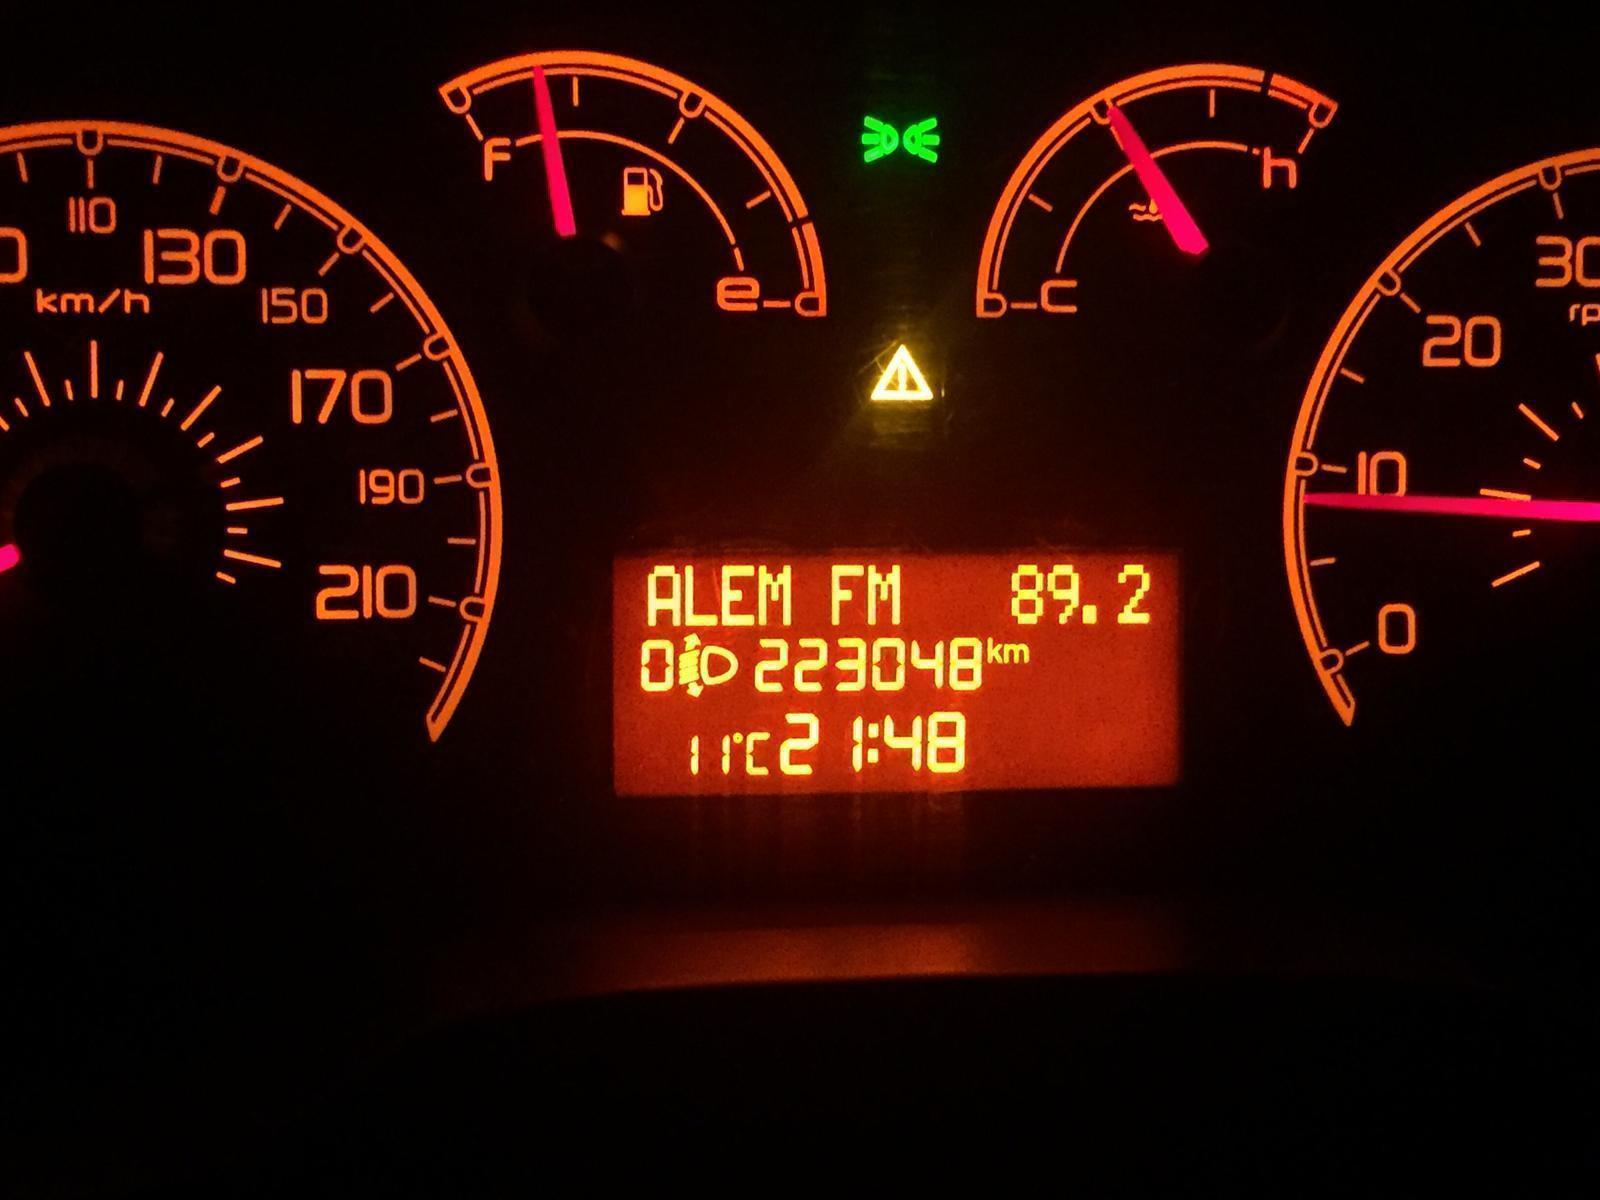,: (1080, 603, 1099, 625)
0: (640, 638, 674, 691), (871, 637, 905, 689)
1: (849, 715, 864, 773), (689, 734, 700, 776), (721, 734, 731, 775)
2: (779, 711, 821, 775), (1116, 563, 1151, 624), (792, 638, 829, 692), (753, 637, 789, 692)
3: (833, 637, 867, 692)
4: (882, 713, 922, 771), (910, 639, 944, 689)
8: (927, 710, 968, 773), (1009, 562, 1044, 625), (947, 637, 984, 692)
9: (1044, 563, 1080, 625)
X: (829, 563, 866, 626), (866, 563, 902, 625), (646, 563, 682, 626), (721, 563, 756, 625), (757, 563, 791, 626), (685, 563, 718, 625), (745, 731, 770, 775), (1003, 642, 1031, 666), (866, 721, 879, 764), (985, 637, 1003, 664)
odometer: (607, 548, 1186, 800)
